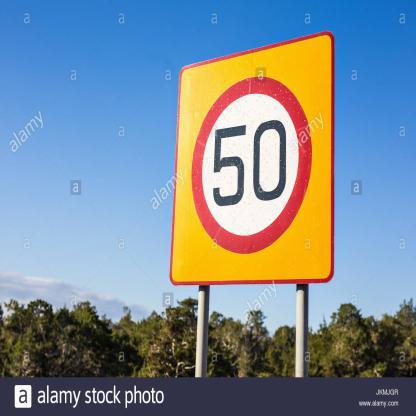Speed Limit 50: (191, 80, 310, 250)
